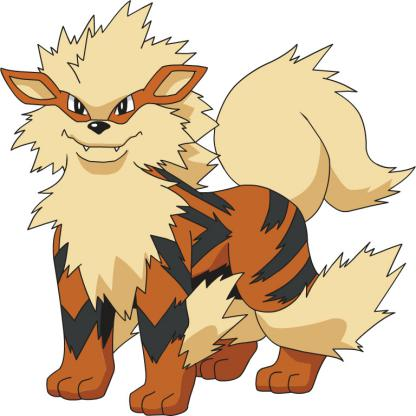Arcanine: (1, 4, 416, 414)
